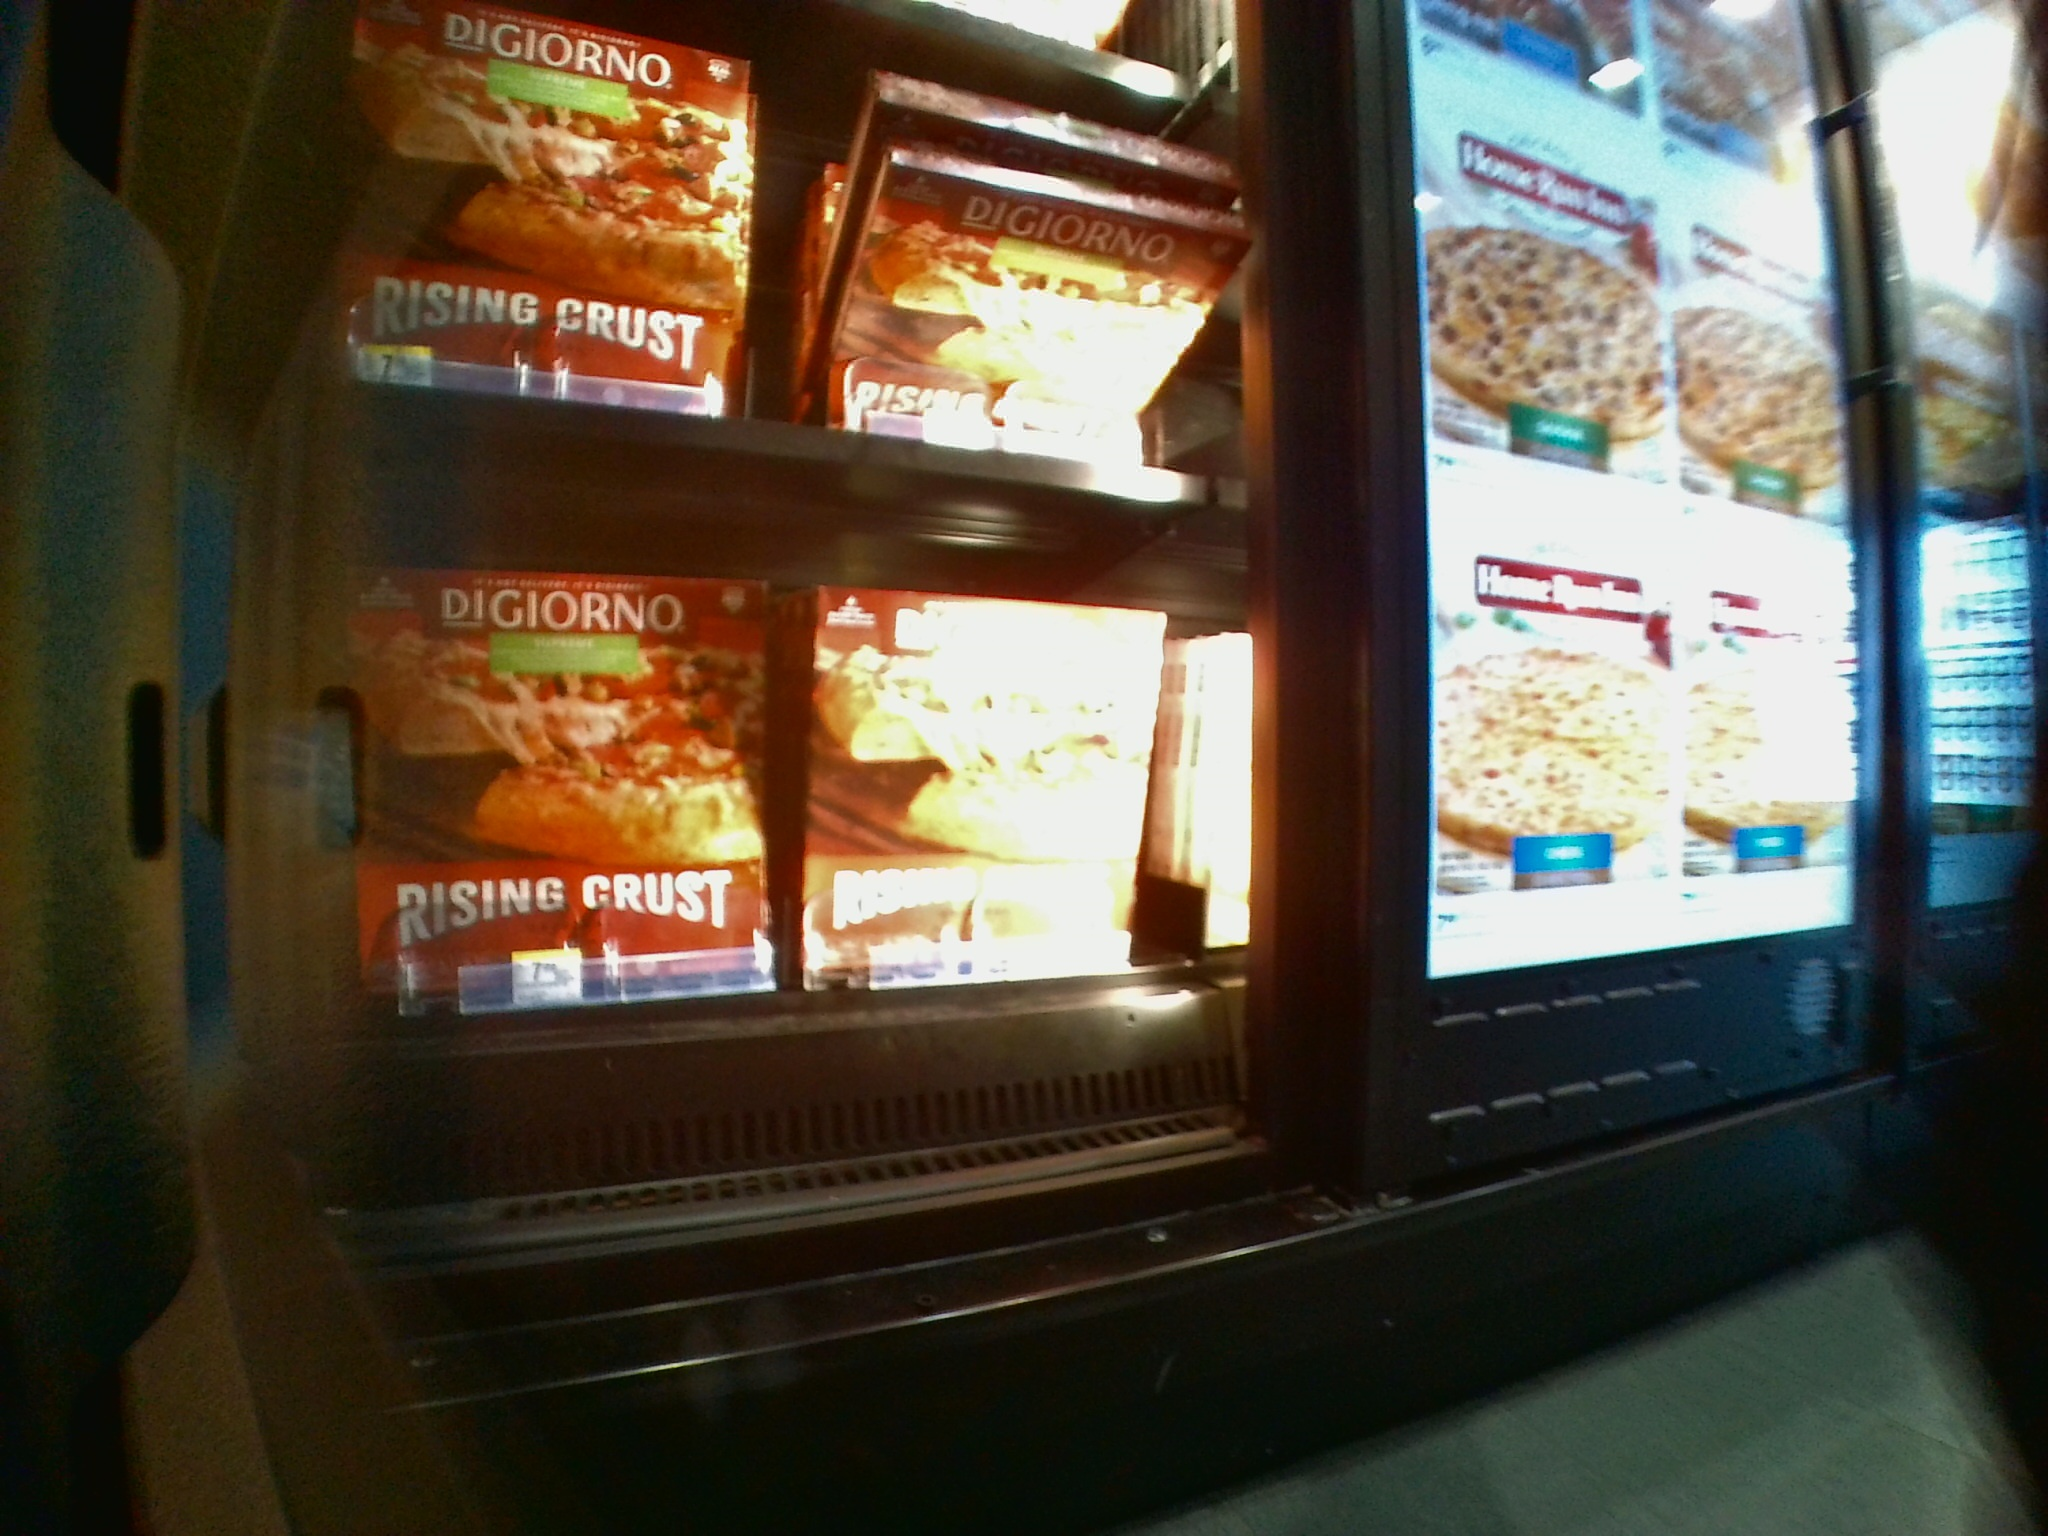shelf: (340, 461, 1250, 1117), (337, 2, 1237, 455)
